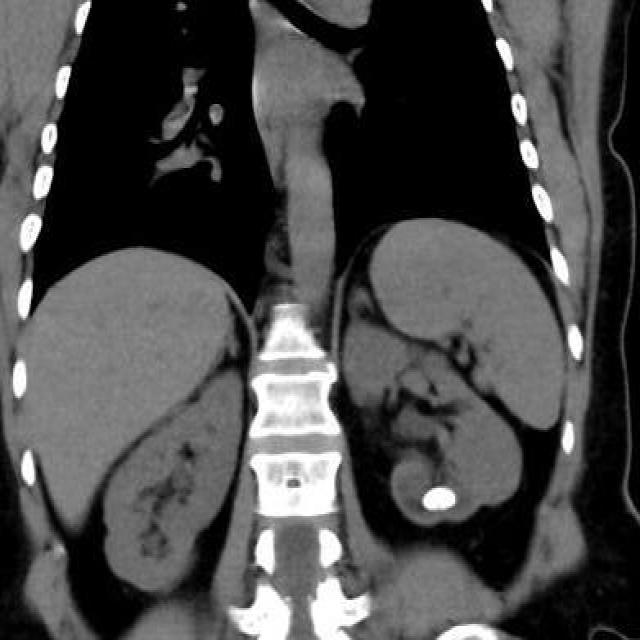Tas_Var: (420, 486, 459, 514)
